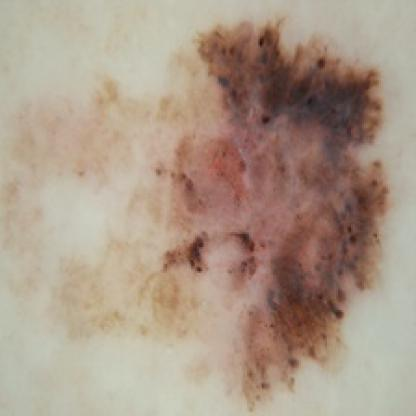malignant: (147, 22, 392, 386)
